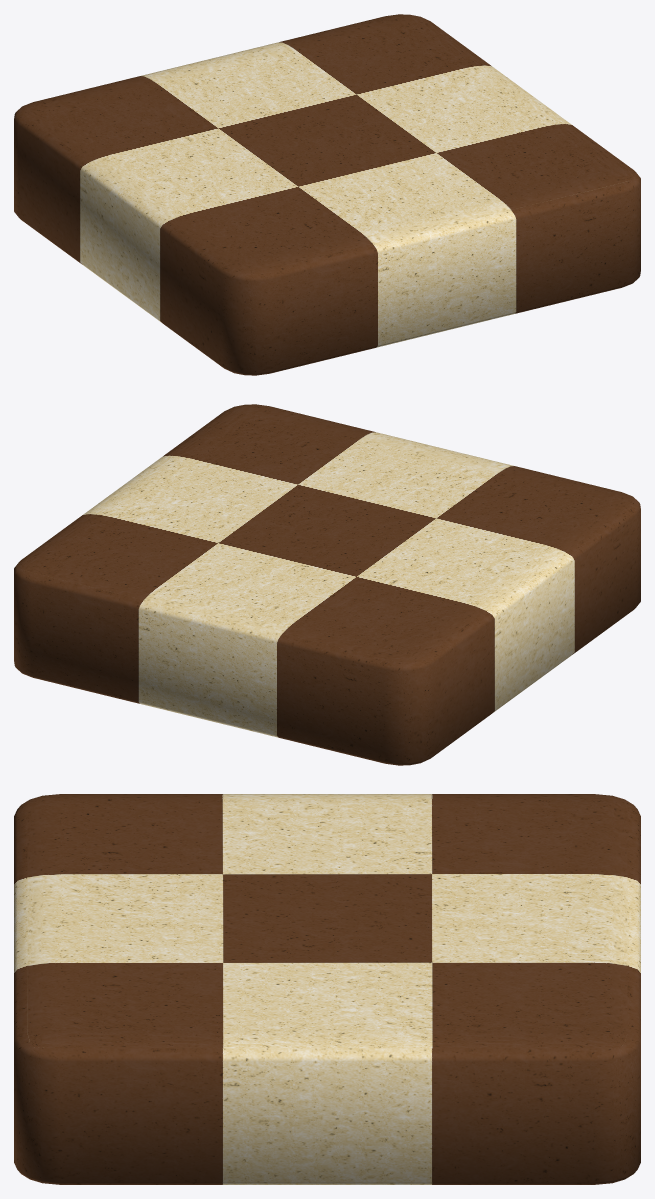
The model's file is checkercookie.fbx.
3 views of the same model, one above another, from view 1: azimuth 30°, elevation 25°; view 2: azimuth 150°, elevation 25°; view 3: azimuth 270°, elevation 25° (orthographic). The views are drawn at different scales.
Parts seen in each view (by area): view 1: Cube.001; view 2: Cube.001; view 3: Cube.001.
Boxes of the visible parts, box(x1,y1,x2,y2) form: Cube.001: box(14, 14, 640, 375); Cube.001: box(14, 404, 640, 765); Cube.001: box(14, 794, 640, 1184).
Size of the model in its own units: 200 by 50 by 200.
